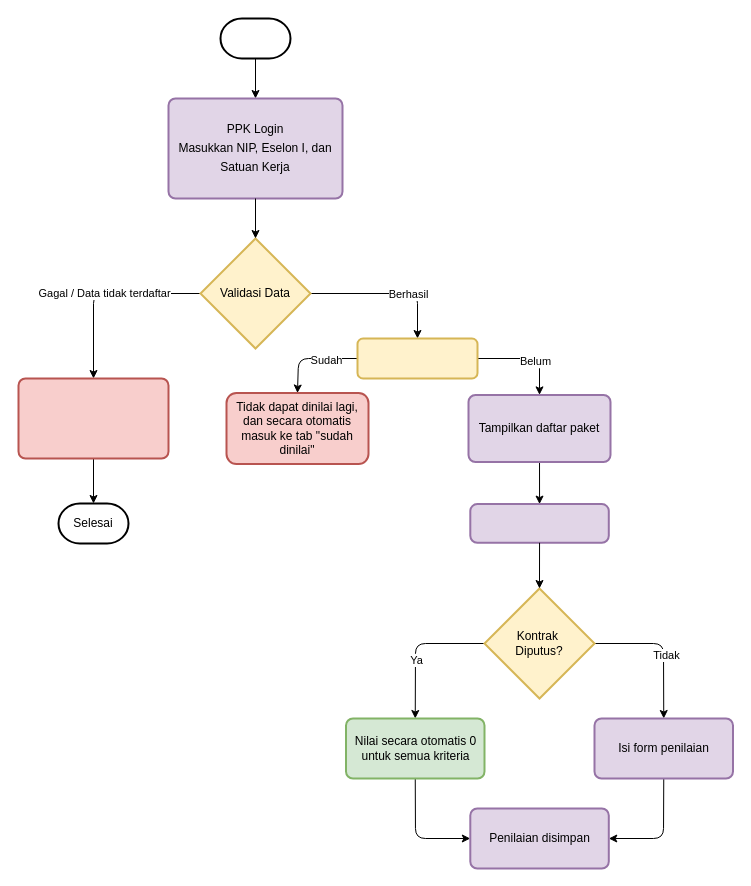
This 751x886 diagram has some shape labels left out. Here are the shapes that lost their labels. From the top down, the centre of each, then its label:
At pixel 255 38: "Start".
At pixel 417 358: "Paket sudah dinilai?".
At pixel 93 418: "Akses ditolak kembali ke halaman login".
At pixel 539 523: "Pilih paket untuk dinilai".
